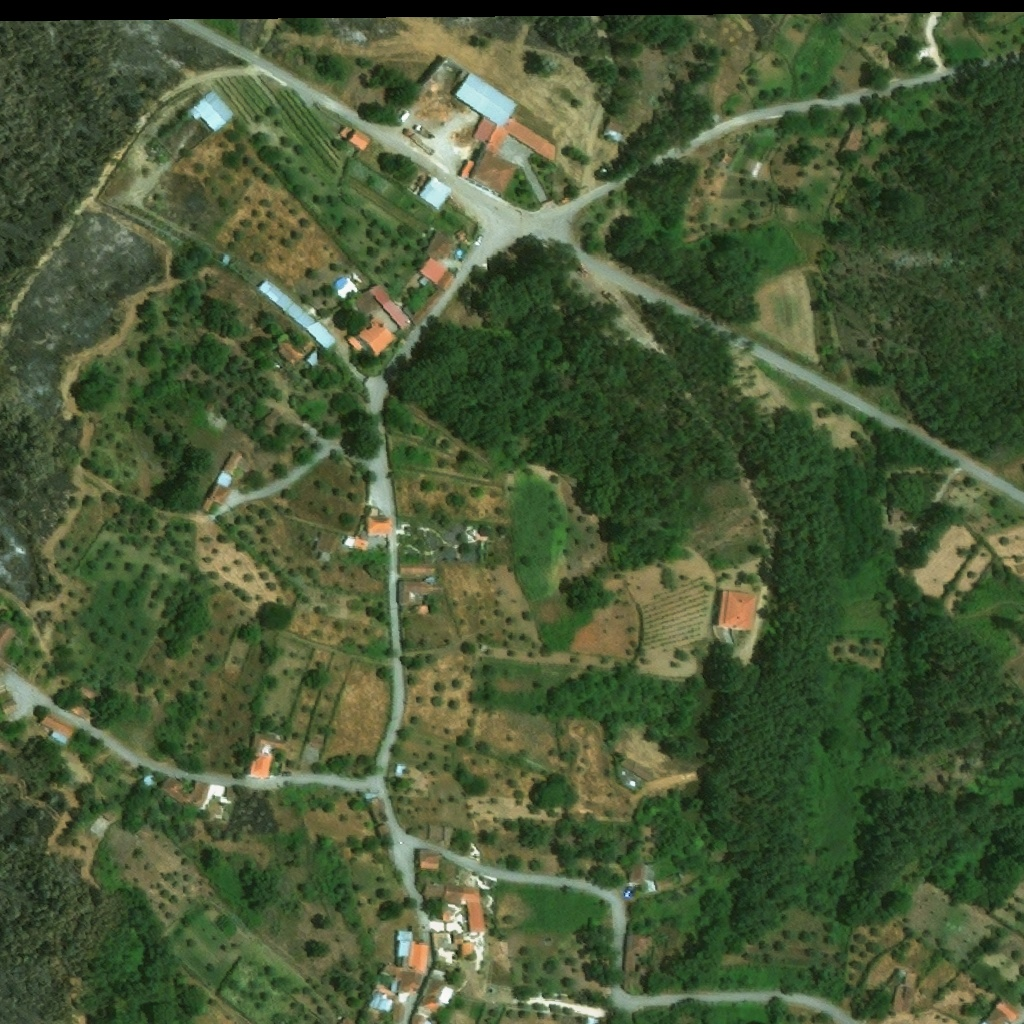0 no-damage: (452, 73, 558, 199), (380, 928, 431, 992), (411, 257, 457, 326), (424, 883, 485, 932), (411, 968, 458, 1023), (347, 313, 398, 360), (161, 777, 216, 816), (276, 329, 325, 371), (187, 90, 234, 133), (369, 282, 411, 330), (423, 222, 465, 265), (249, 735, 289, 779), (716, 590, 758, 631), (209, 451, 241, 502), (622, 934, 649, 993), (628, 859, 675, 890), (37, 712, 76, 746), (419, 176, 452, 210), (890, 972, 916, 1015), (978, 997, 1018, 1023), (337, 125, 371, 154), (603, 114, 634, 145), (836, 128, 863, 161), (396, 580, 429, 606), (619, 757, 654, 781), (431, 909, 464, 934), (367, 797, 388, 824), (366, 516, 391, 537), (368, 990, 394, 1010), (399, 562, 439, 575), (419, 848, 441, 870), (427, 823, 453, 841), (0, 697, 19, 715), (343, 536, 367, 550), (141, 772, 159, 789), (459, 941, 475, 957), (307, 737, 324, 749), (595, 919, 612, 931), (718, 154, 732, 168), (374, 824, 388, 836), (679, 871, 693, 883), (452, 934, 464, 945), (220, 255, 231, 266), (711, 115, 721, 125), (395, 764, 403, 773), (640, 968, 646, 974)
4 un-classified: (0, 621, 19, 671), (709, 848, 728, 863), (583, 1016, 602, 1023)
